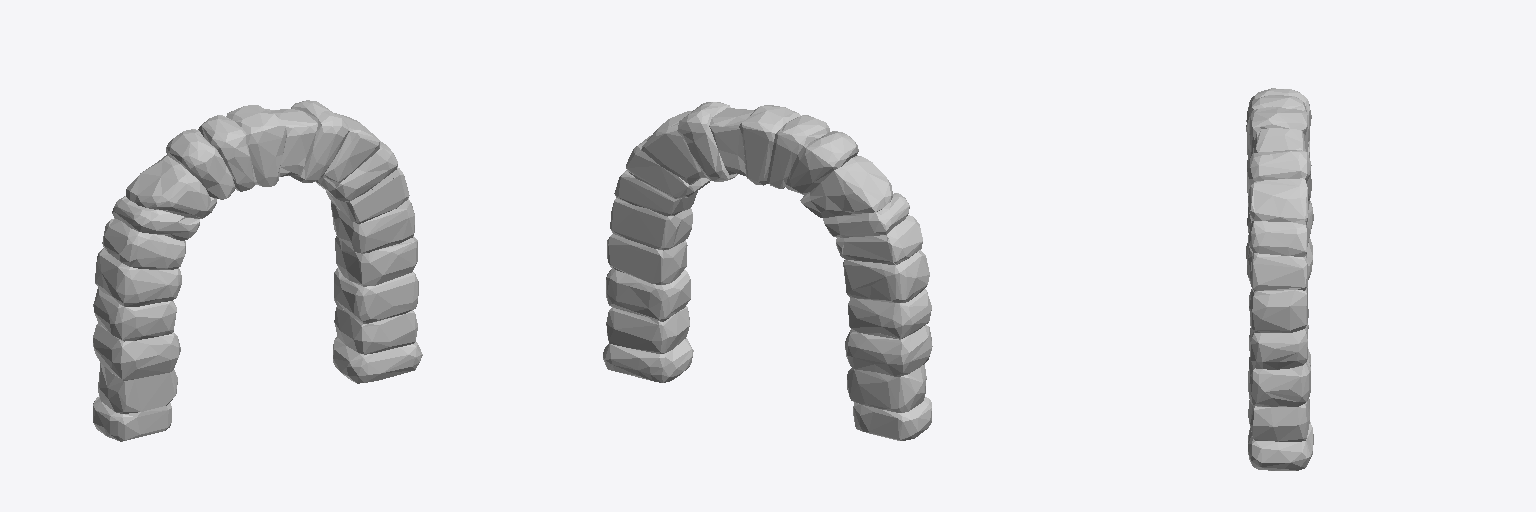
Rendered from gate_3.obj.
The picture shows the model from 3 angles: view 1: azimuth 30°, elevation 25°; view 2: azimuth 150°, elevation 25°; view 3: azimuth 270°, elevation 25°; orthographic projection.
Parts seen in each view (by area): view 1: high_poly.002_Circle.004; view 2: high_poly.002_Circle.004; view 3: high_poly.002_Circle.004.
Part boxes in pixels (x1,y1,x2,y2): high_poly.002_Circle.004: (93, 100, 422, 441); high_poly.002_Circle.004: (603, 102, 932, 440); high_poly.002_Circle.004: (1246, 88, 1313, 470).
Bounding box in the file's own units: 4 × 3.5 × 0.75.